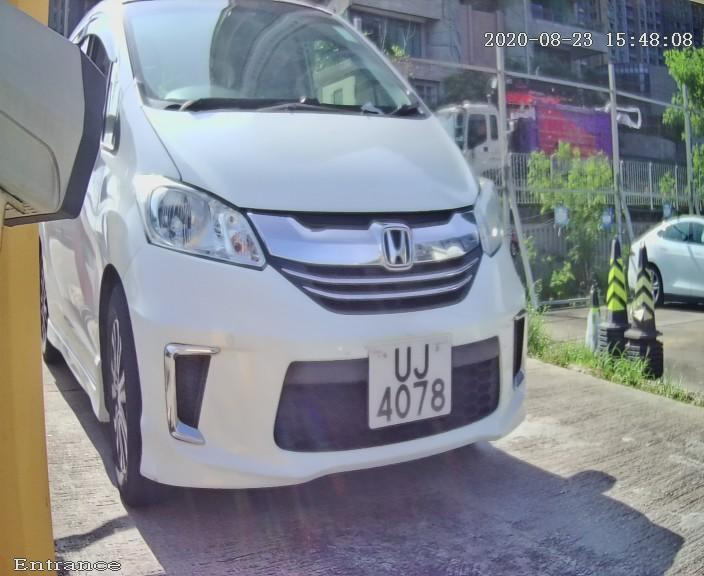Car: (45, 1, 569, 541)
License Plate: (359, 319, 463, 440)
